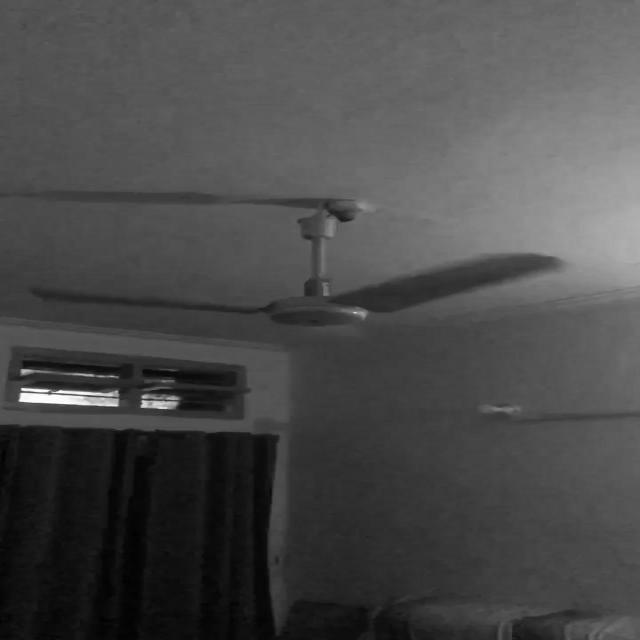fan: (22, 192, 564, 327)
